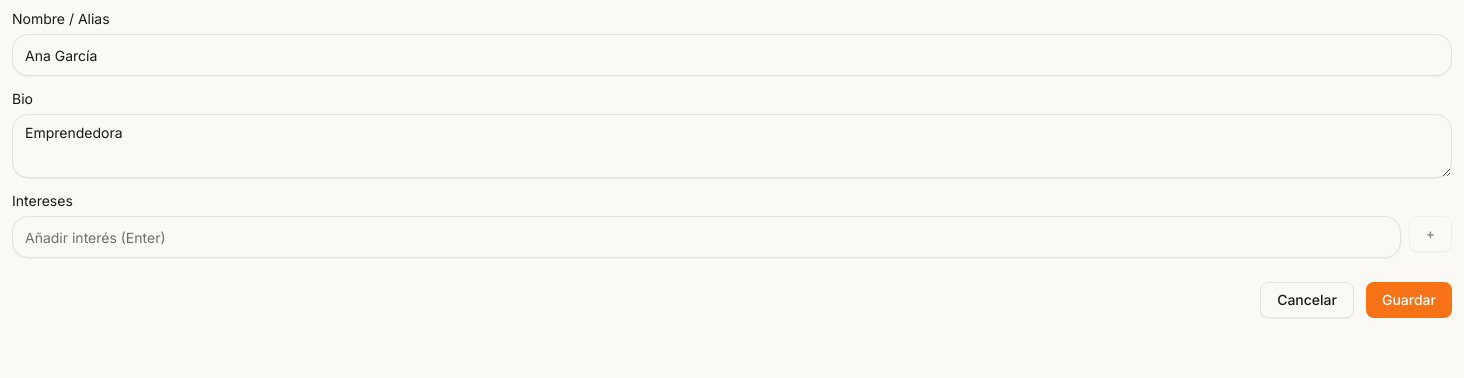
ProfileForm — gestión de intereses › añade un nuevo interés al pulsar Enter en el input
Type "Web3" into the field with placeholder "Añadir interés (Enter)".
click(706, 237); type("Web3")  # box [12,216,1401,258]
Then press Enter
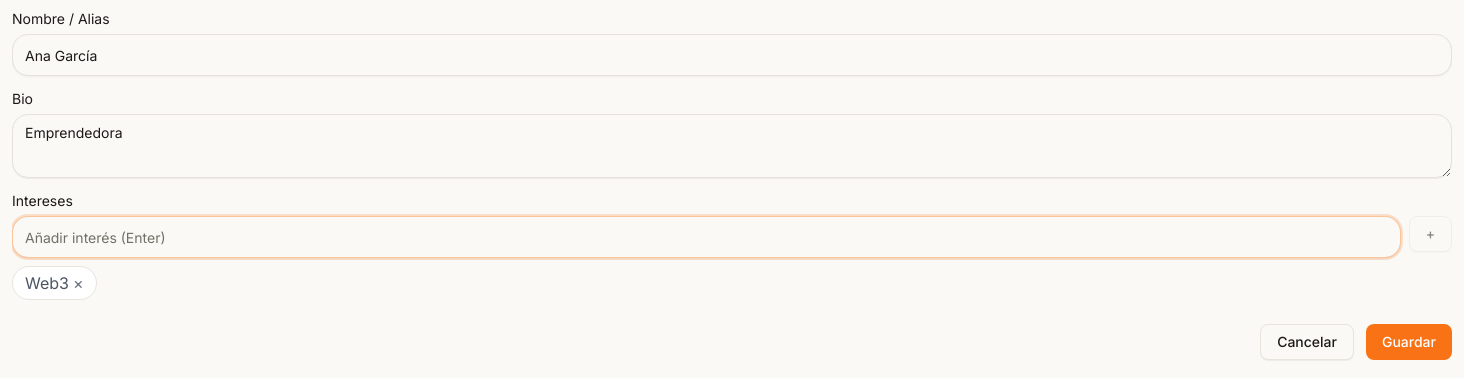
Check: the text "Web3" is shown, box [25,273,69,293]
